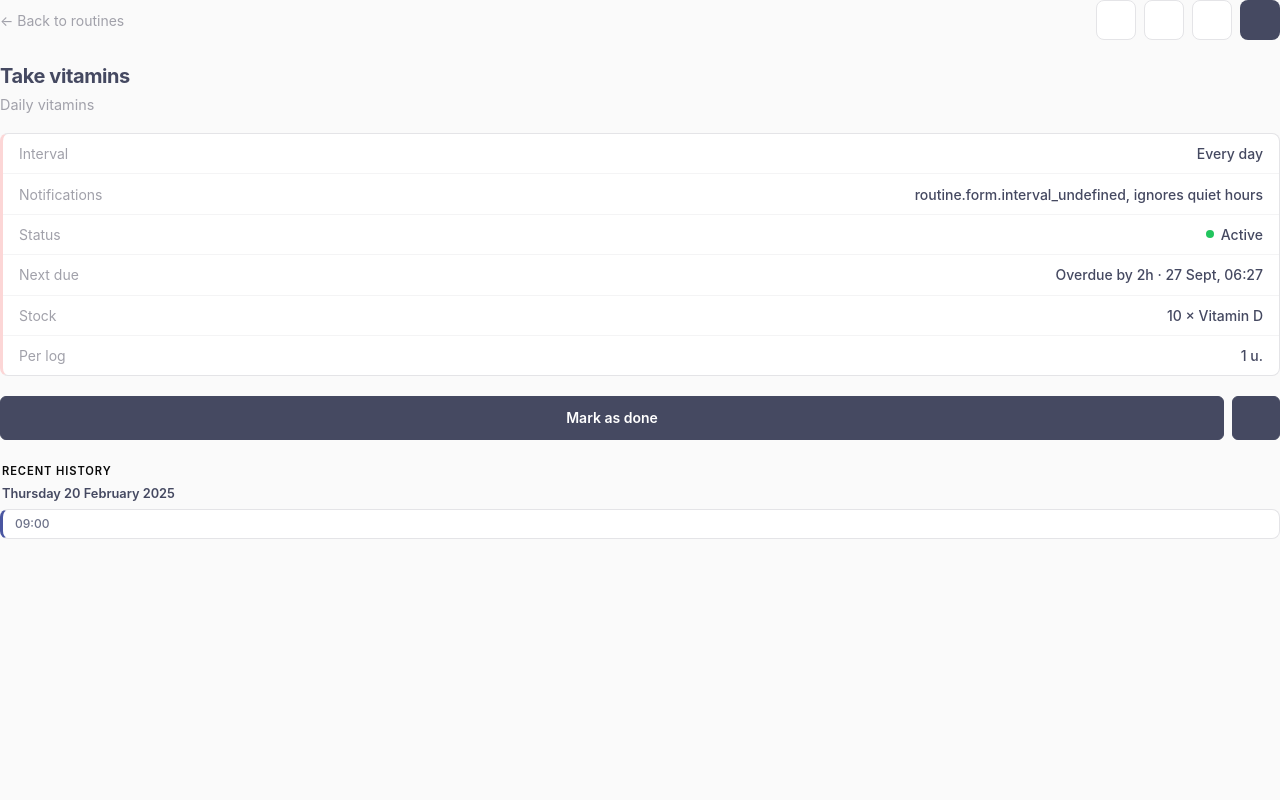
Test: RoutineDetailPage › shows error when delete fails
The image size is (1280, 800).
Click the button named "Delete": click(1212, 20) [1192,0,1232,40]
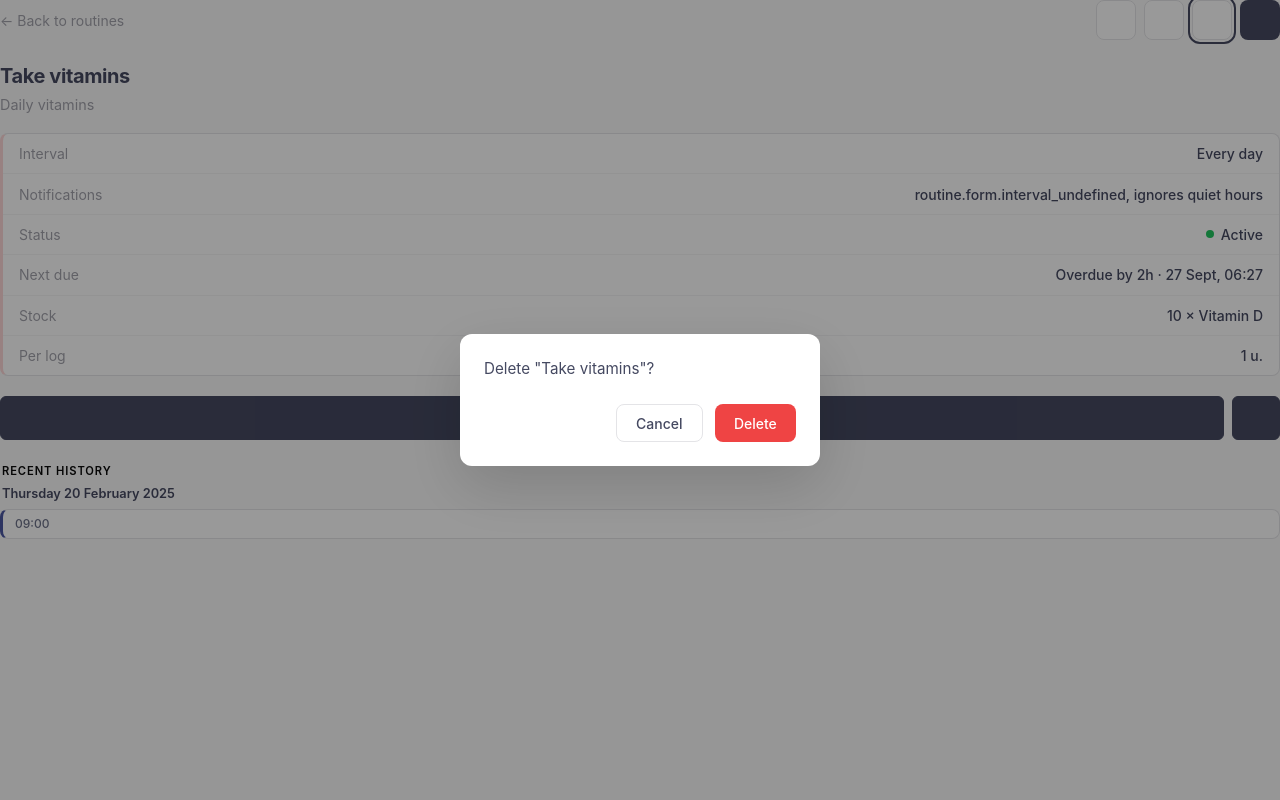
Click the button "Delete": click(755, 423) [715,404,796,442]
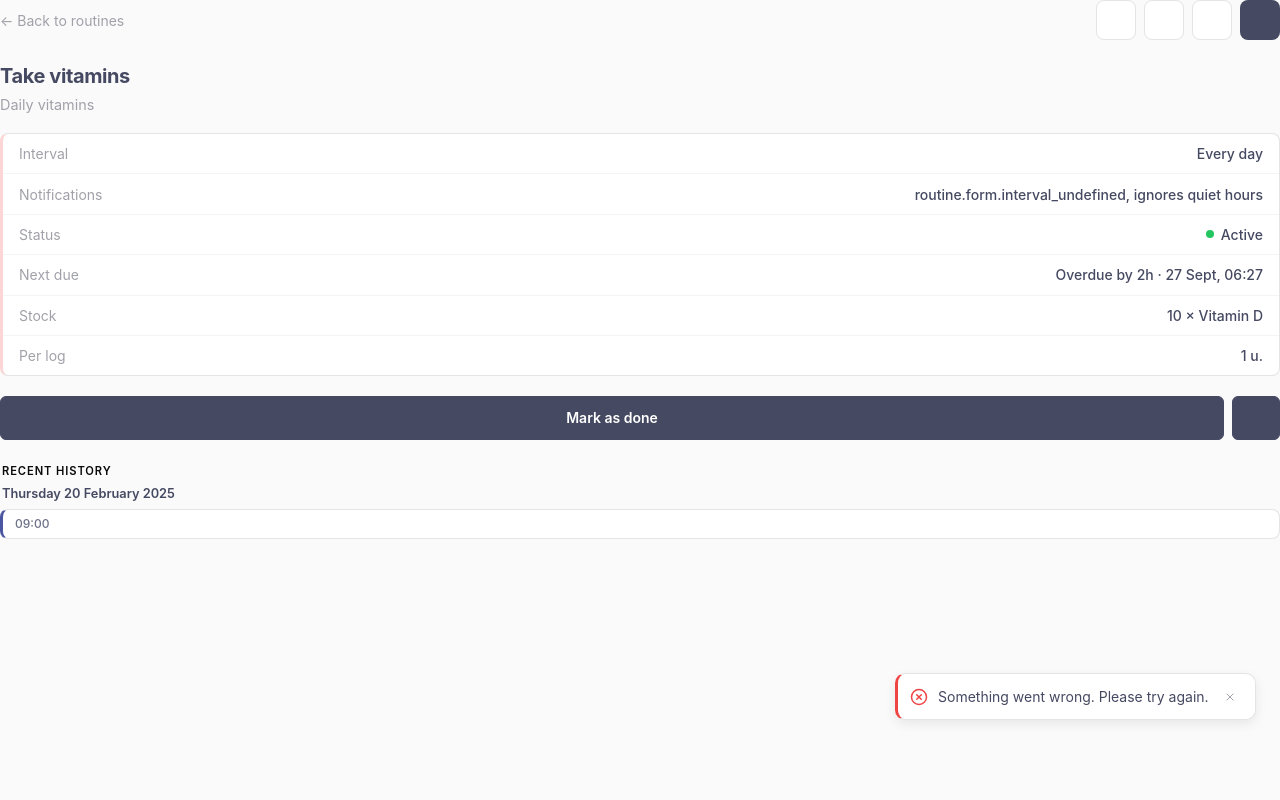
Expected: the text "Something went wrong. Please try again." is shown, [938,688,1209,706]
